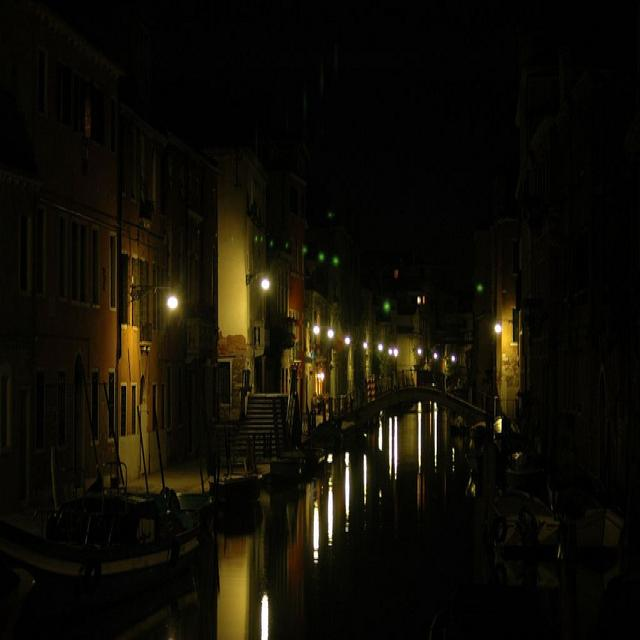Boat: (7, 362, 228, 632), (460, 475, 561, 589), (565, 469, 632, 590), (203, 440, 267, 524)
